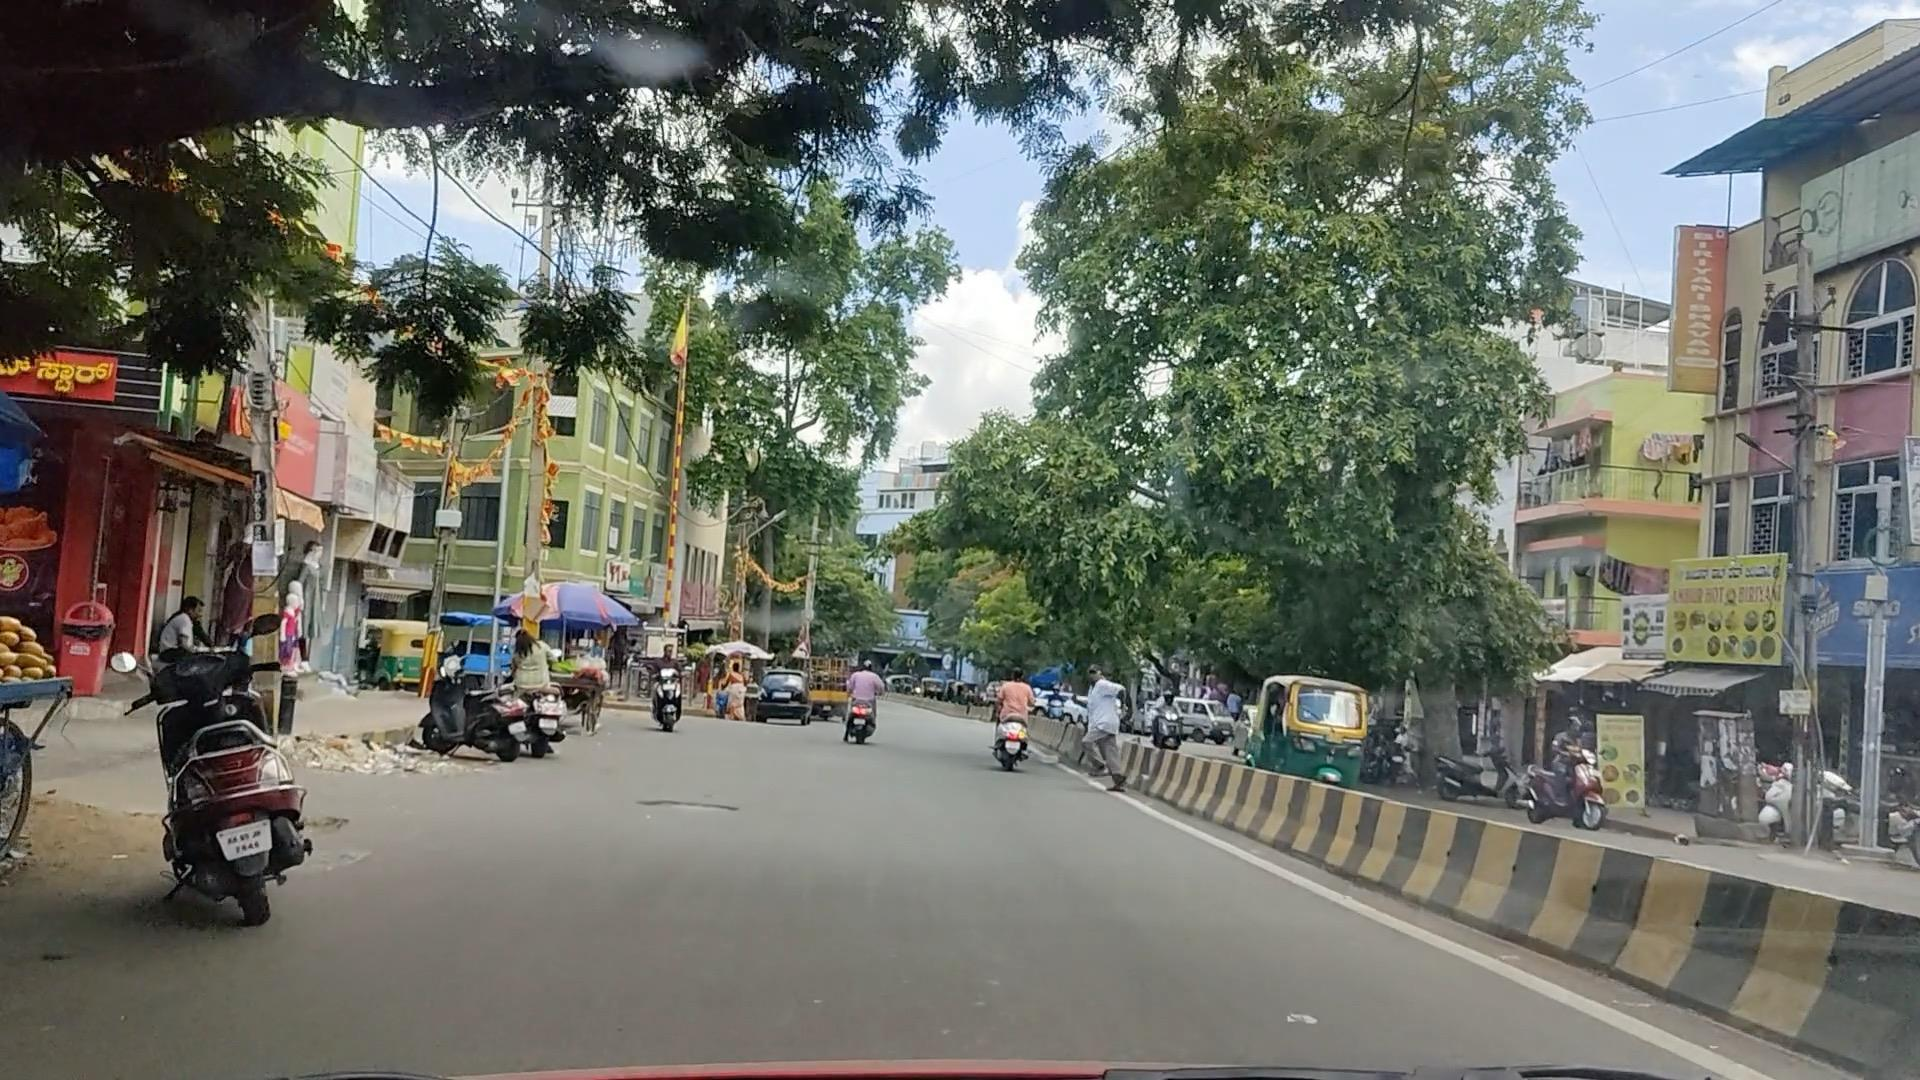LMV: (137, 646, 336, 928), (997, 670, 1035, 773)
